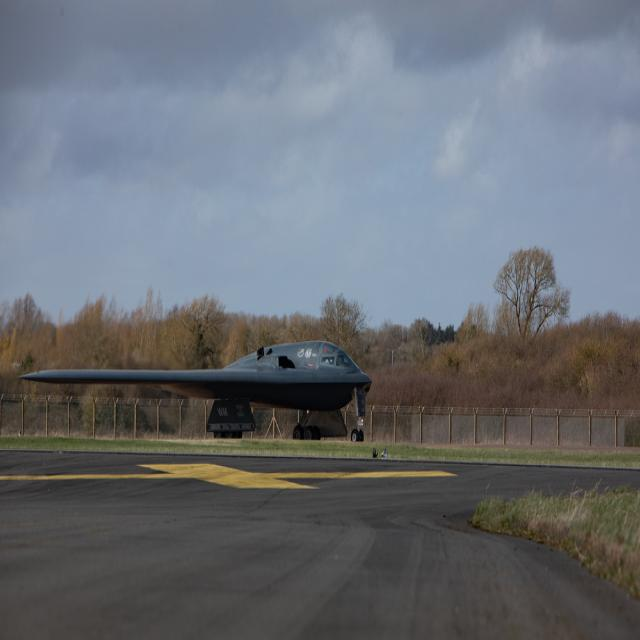MIL_Plane: (0, 341, 242, 442)
